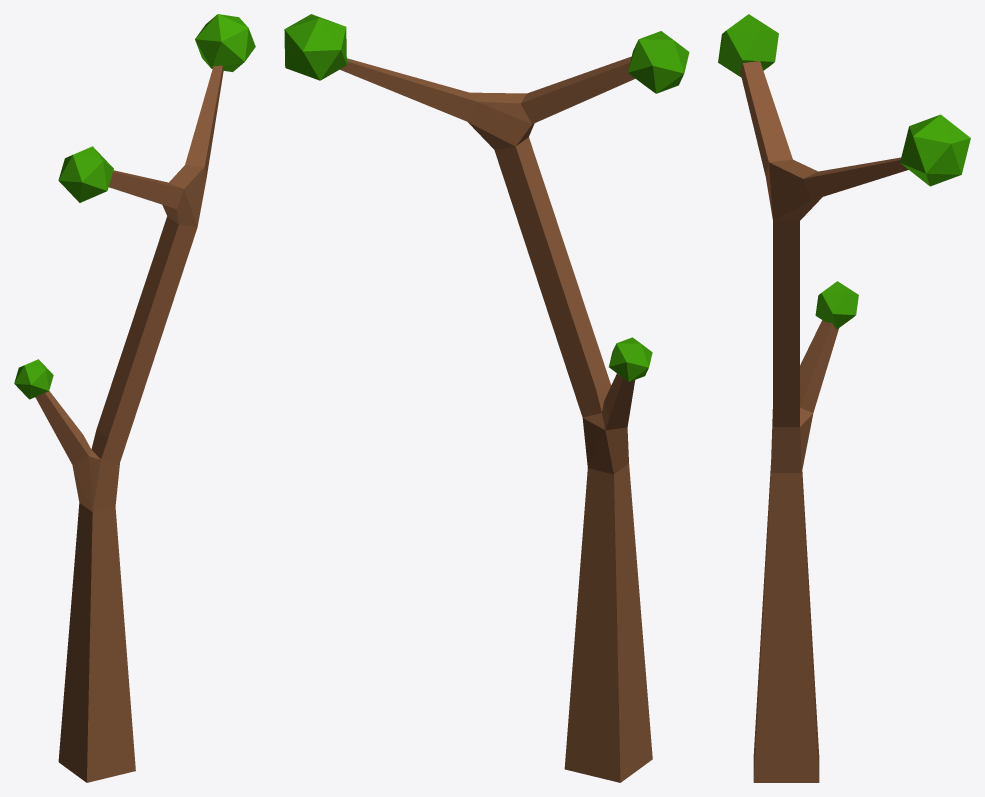
File: planted-tree-1.gltf
3 views of the same model, side by side, from view 1: azimuth 30°, elevation 25°; view 2: azimuth 150°, elevation 25°; view 3: azimuth 270°, elevation 25° (orthographic). The views are drawn at different scales.
Parts seen in each view (by area): view 1: Base, Leaves1, Leaves3, Leaves2; view 2: Base, Leaves1, Leaves3, Leaves2; view 3: Base, Leaves1, Leaves3, Leaves2.
Boxes of the visible parts, x1,y1,x2,y2 form: Base: [35, 65, 223, 782]; Leaves1: [195, 14, 255, 71]; Leaves3: [58, 146, 113, 202]; Leaves2: [14, 359, 53, 399]; Base: [340, 56, 652, 782]; Leaves1: [284, 14, 346, 80]; Leaves3: [628, 31, 689, 93]; Leaves2: [609, 337, 652, 381]; Base: [740, 61, 908, 782]; Leaves1: [900, 114, 970, 186]; Leaves3: [718, 14, 778, 77]; Leaves2: [815, 281, 858, 329].
Size of the model in its own units: 0.8847 by 2 by 0.6029.
